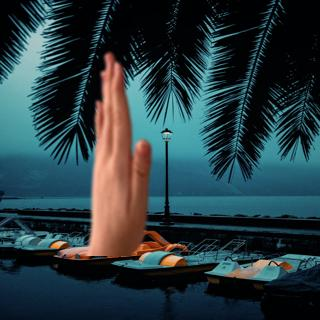Right: (75, 48, 156, 245)
